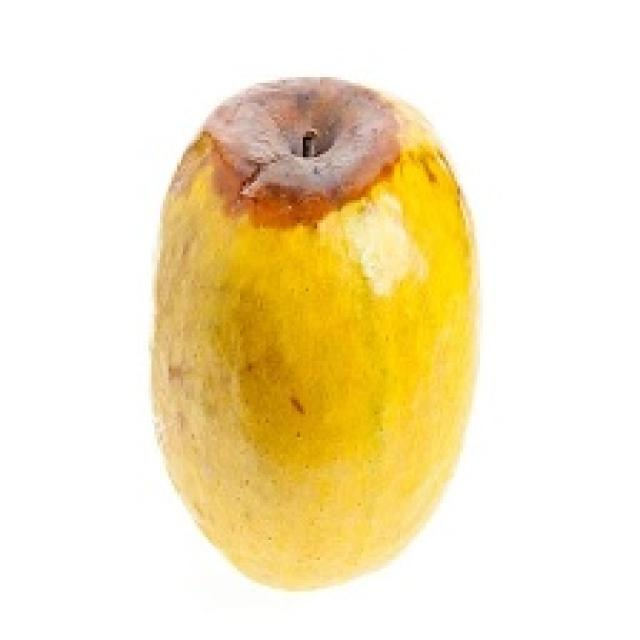rotten_apple: (166, 78, 472, 580)
